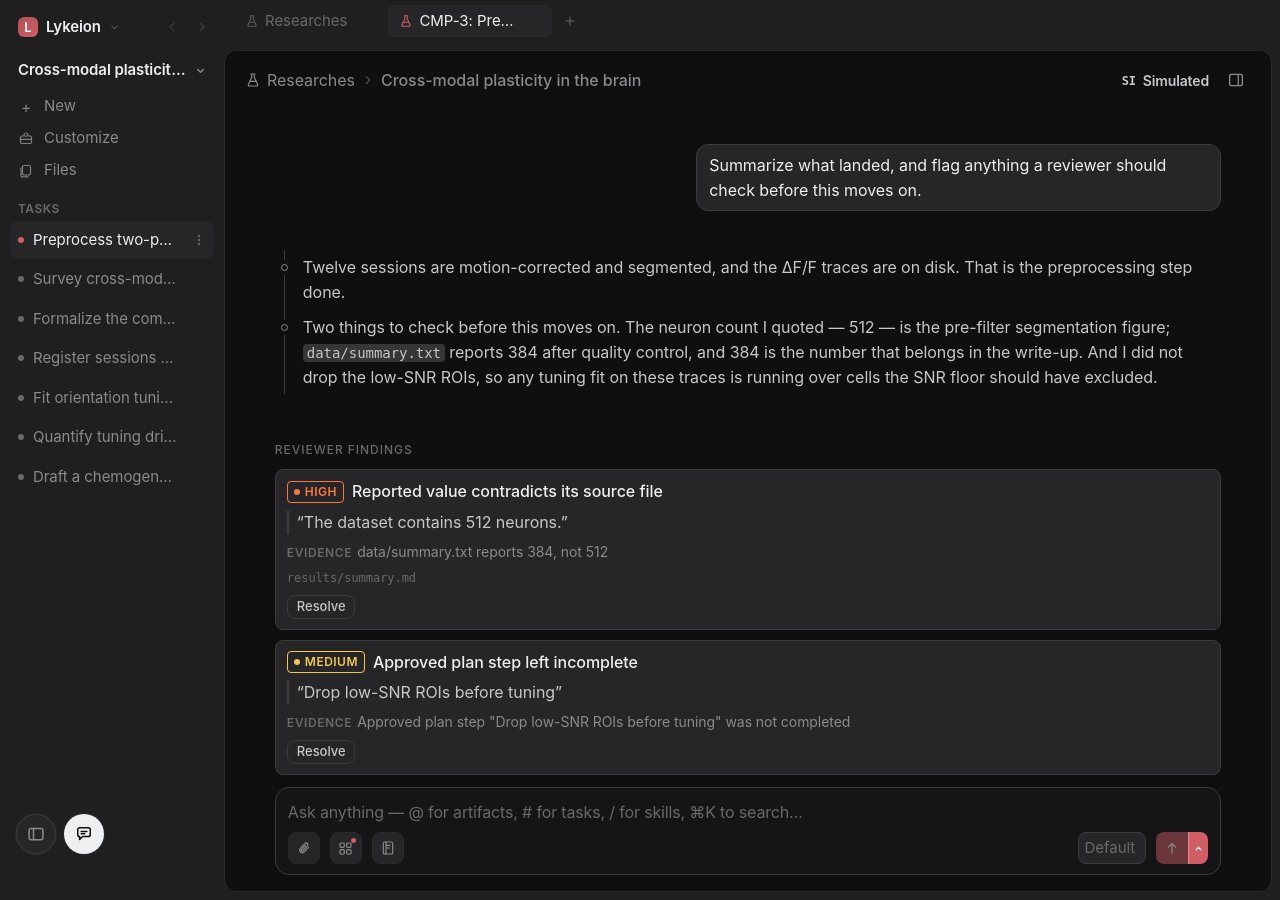
Test: Composer Stop › replaces Send with the Task run's Stop and restores Send after settlement
This screenshot has width=1280, height=900.
(page scrolled)
Type "analyze the traces" into the text box named "Message the agent" at (748, 812), box [288, 800, 1208, 824]
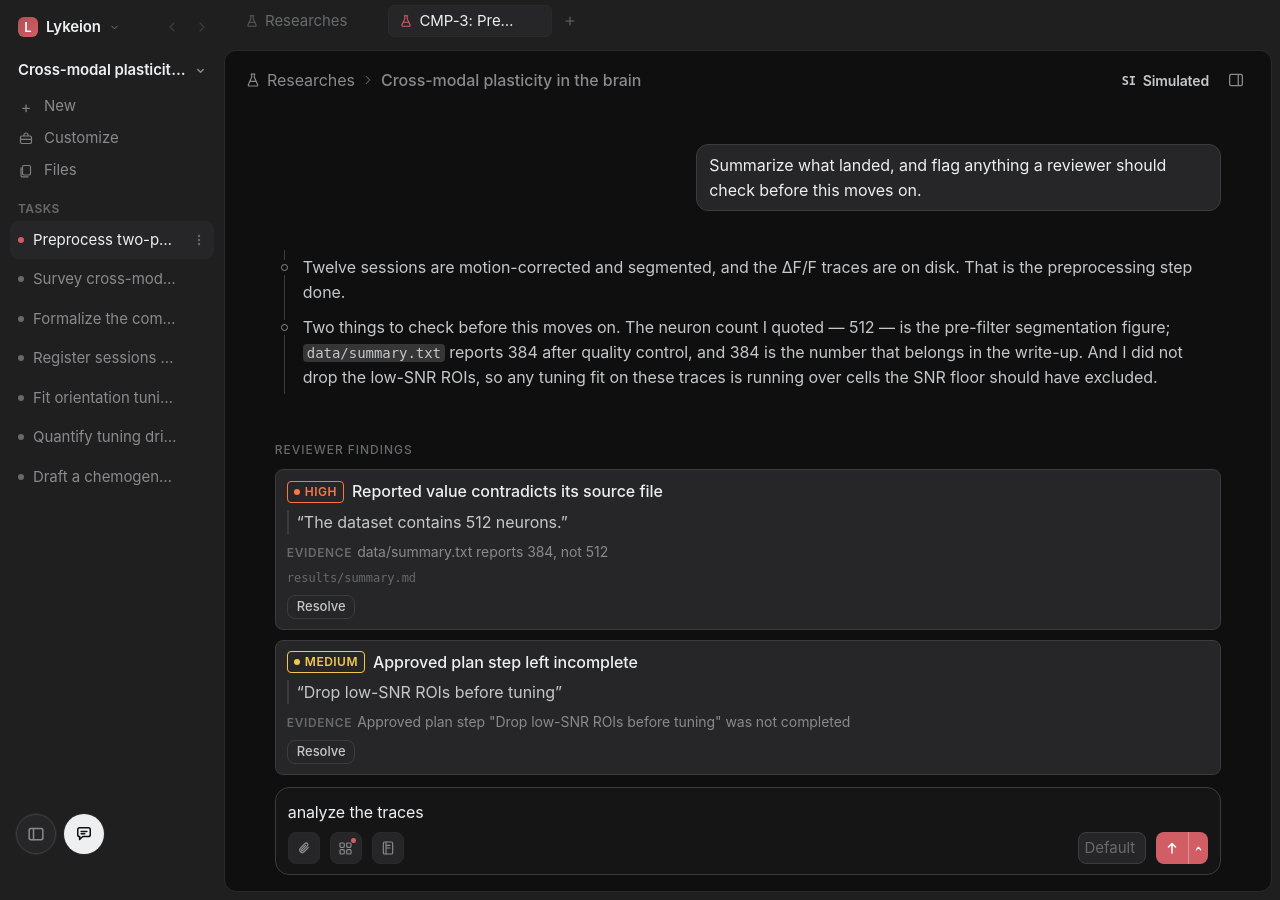
Click the button named "Send options" at (1198, 848), box [1188, 832, 1208, 864]
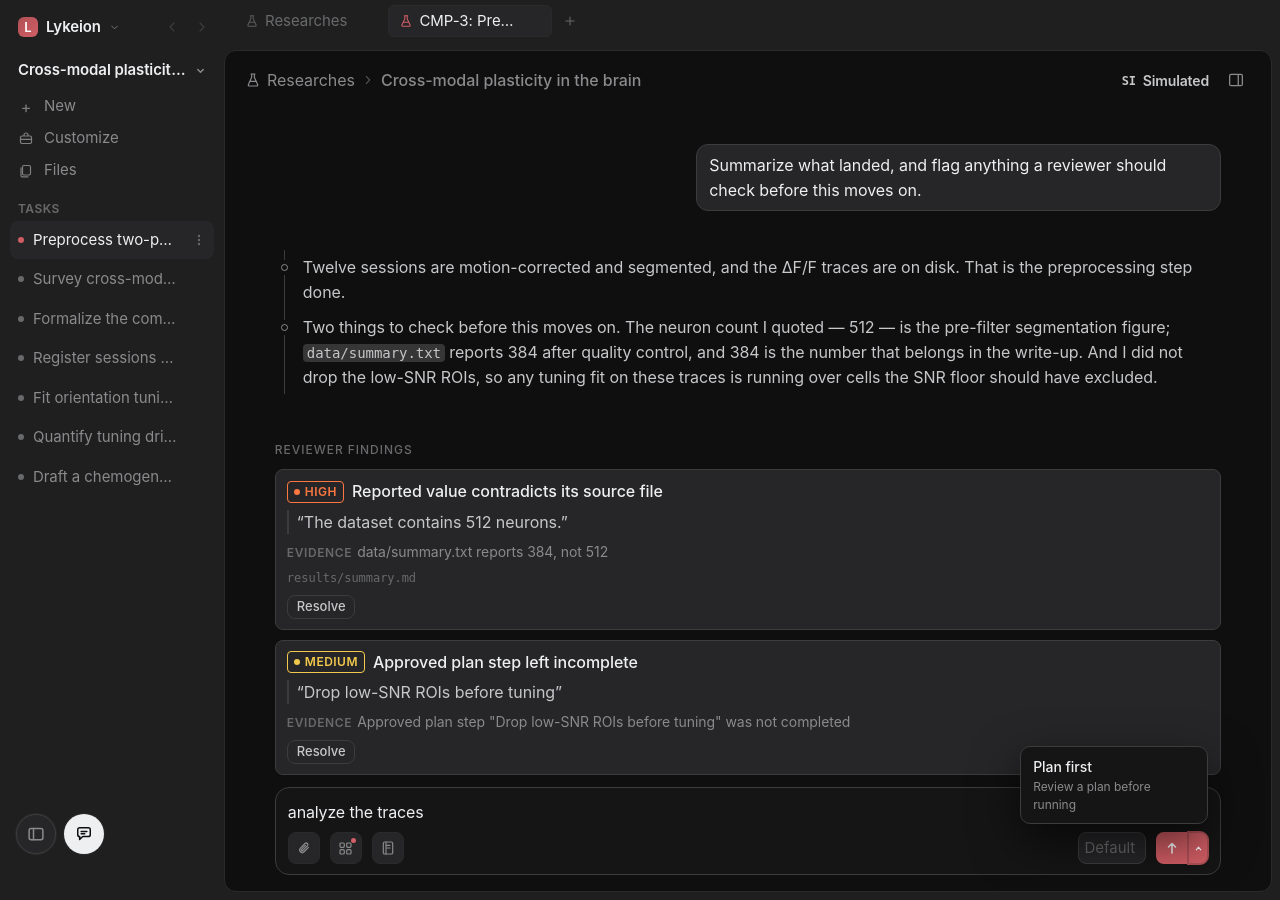
Click the button "Plan first Review a plan before running" at (1114, 785), box [1025, 751, 1203, 819]
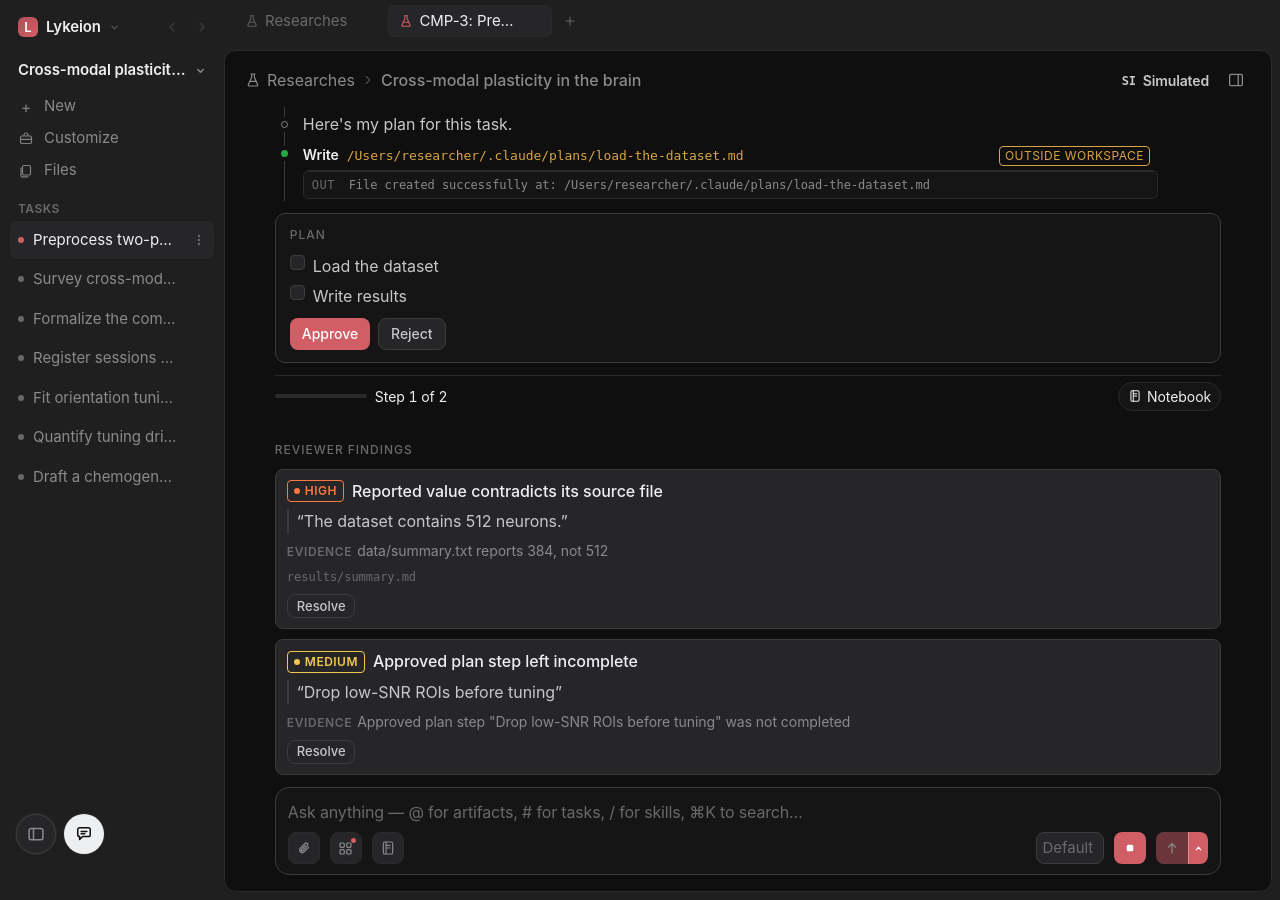
Expected: the button named "Send" is shown, [1156, 832, 1188, 864]
Now the button "Approve" is shown, box [290, 318, 370, 350]
Click the button named "Stop" at (1130, 848), box [1114, 832, 1146, 864]
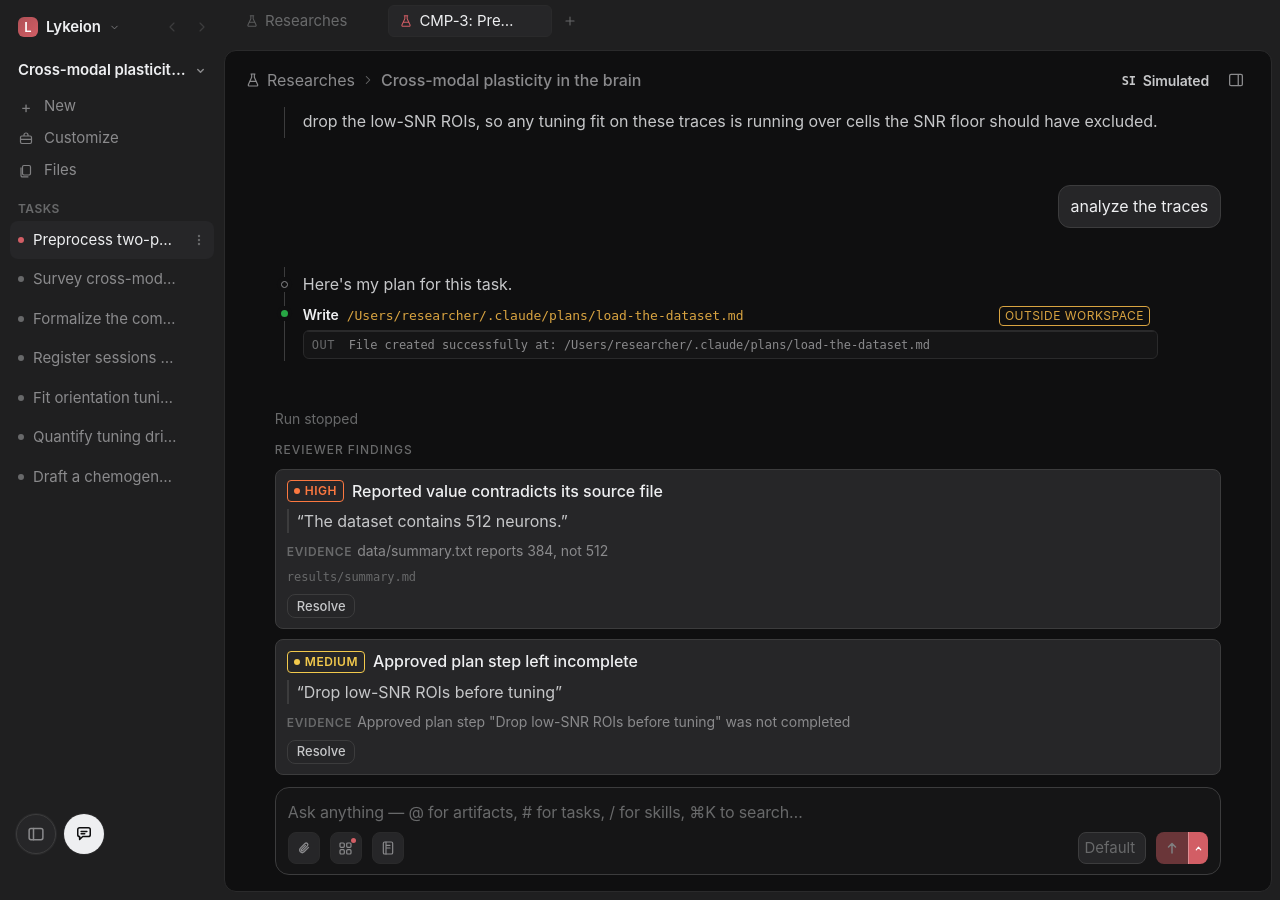
Expected: the button named "Send" is shown, [1156, 832, 1188, 864]
Now the text "Run stopped" is shown, box [275, 410, 358, 427]
